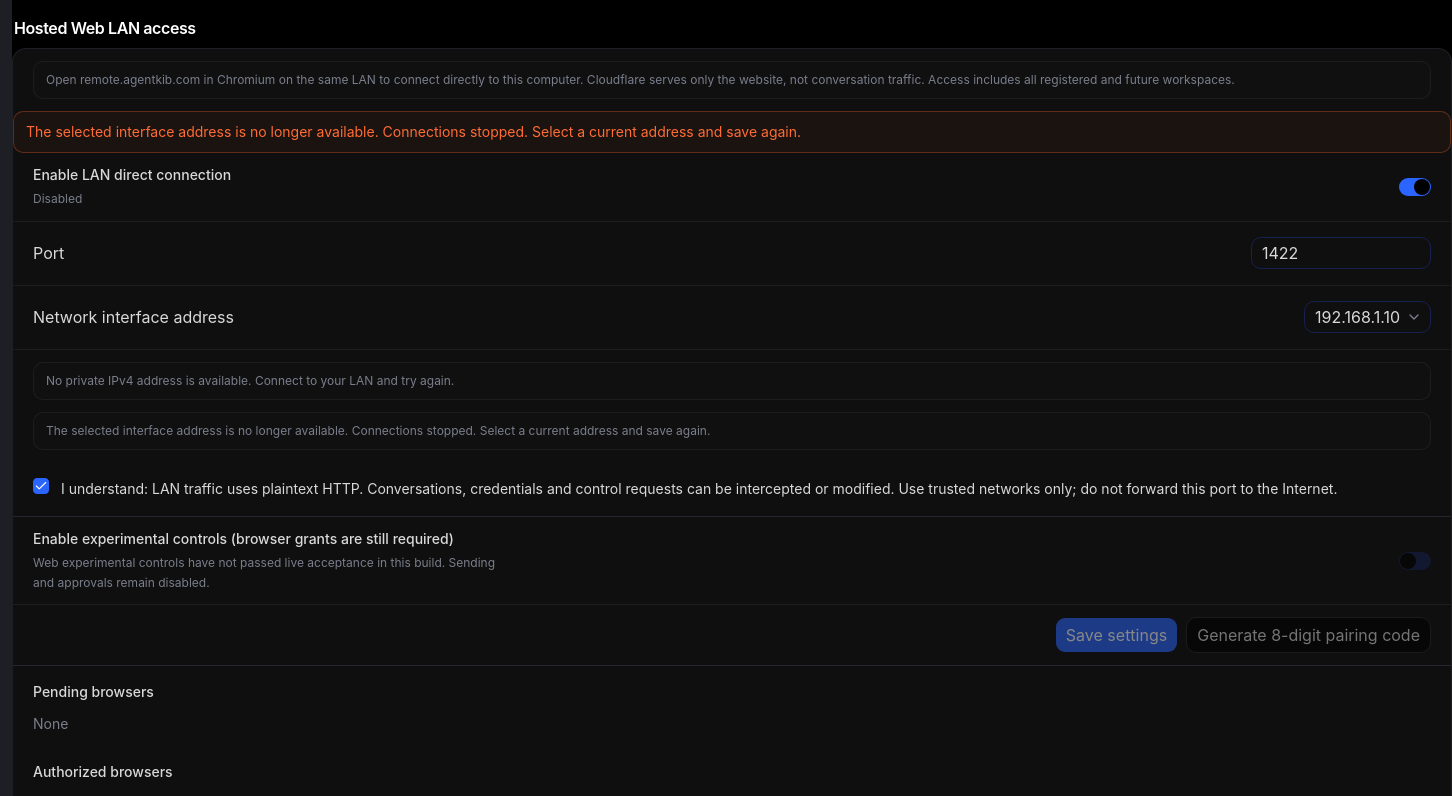
does not allow enabling a disappeared address, but allows disabling it
This screenshot has width=1452, height=796.
Expected: the message is shown, [13,111,1451,153]
Expected: the message shows "no longer available", [26,123,801,140]
Click the switch named "Enable LAN direct connection" at x=1415, y=187, box [1399,178,1431,196]
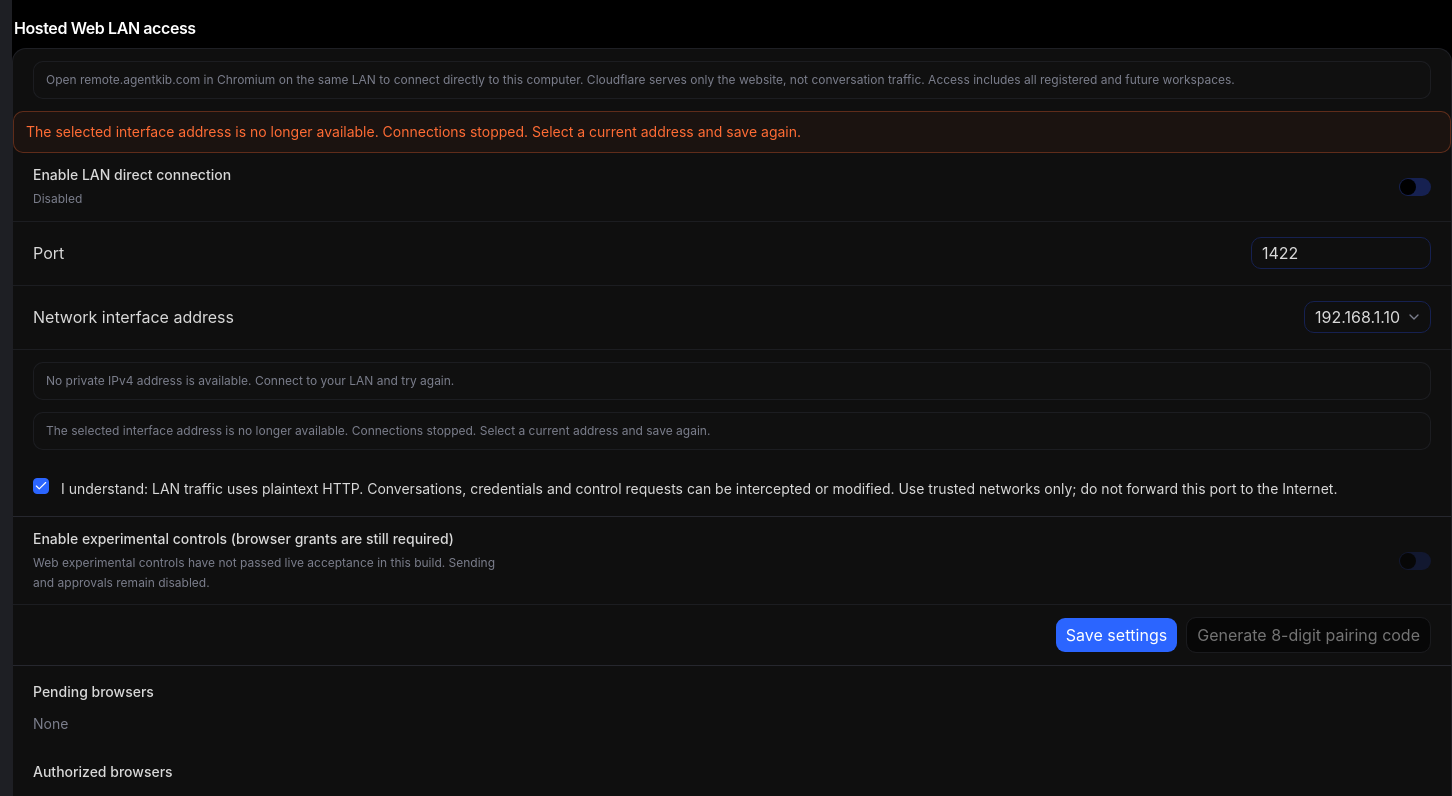
Now the button "Save settings" is enabled, box [1055,617,1178,653]
